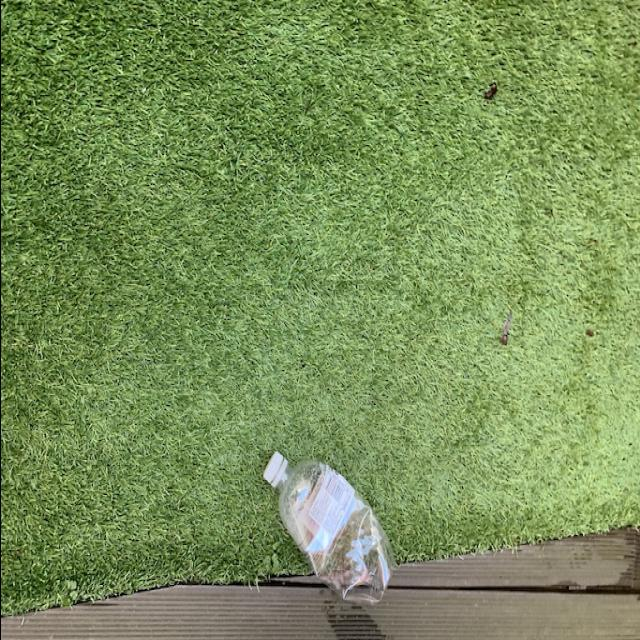PET: (258, 449, 394, 605)
